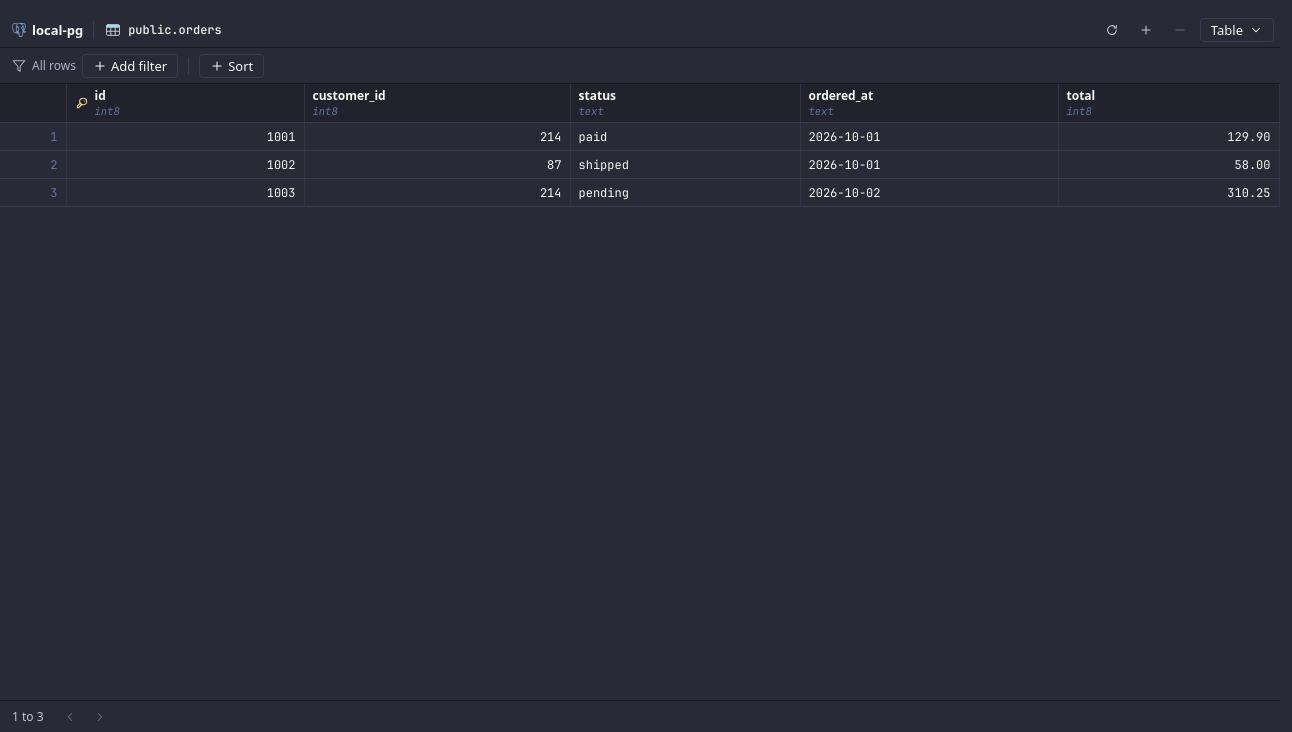
Test: Alt+Shift+Left and Right move the active column, which stays selected
Check: the text "pending" is shown, box [578, 184, 629, 200]
Press the mouse on the cell "87": point(437, 164) [304, 150, 570, 178]
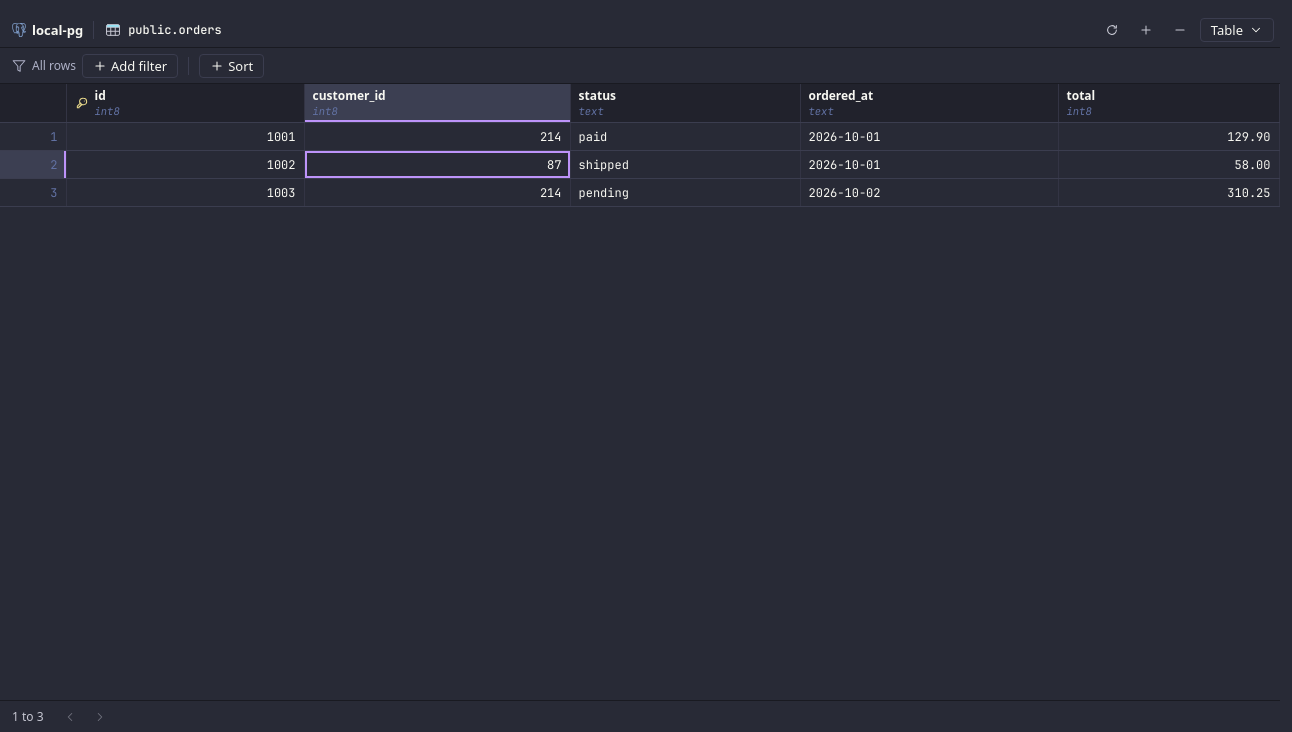
Press ArrowRight in the element with class "grid-scroll", box [0, 84, 1279, 206]
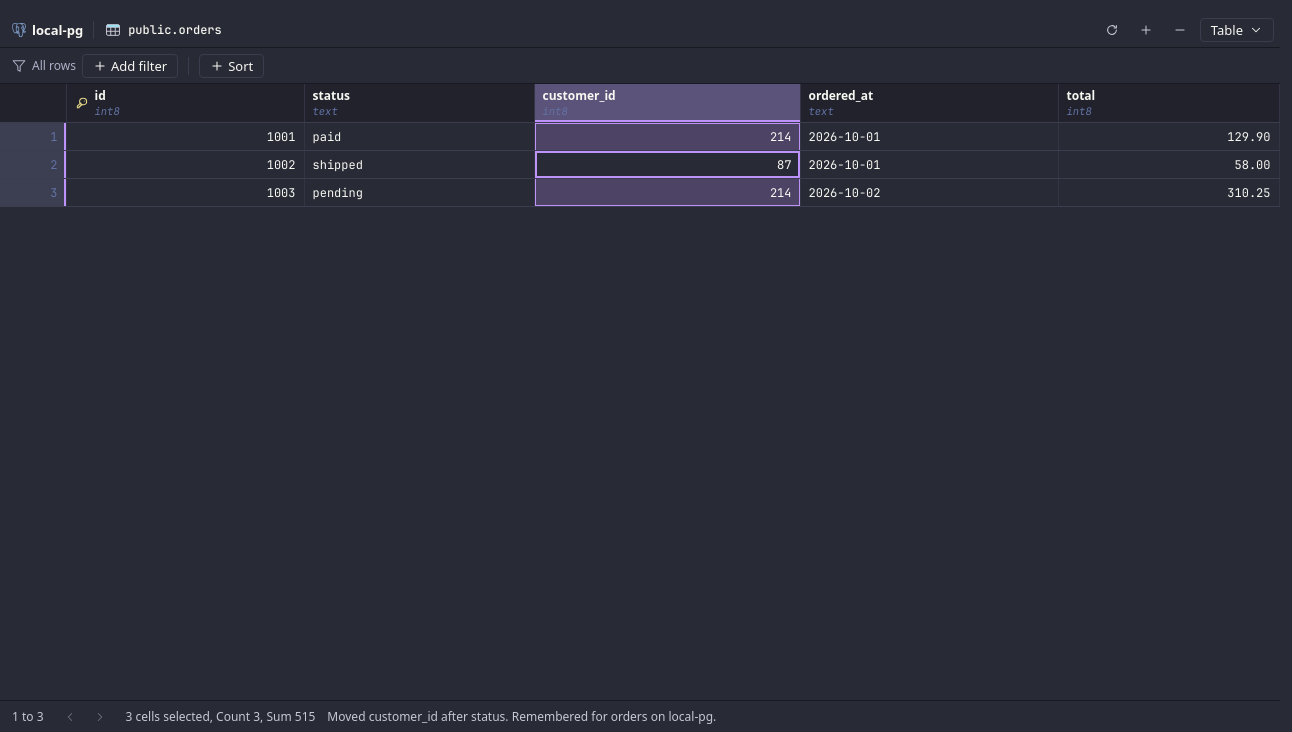
Check: the text with class "table-order-note" reads "Moved customer_id after status. Remembered for orders on local-pg.", box [327, 708, 716, 724]
Press ArrowLeft in the element with class "grid-scroll", box [0, 84, 1279, 206]
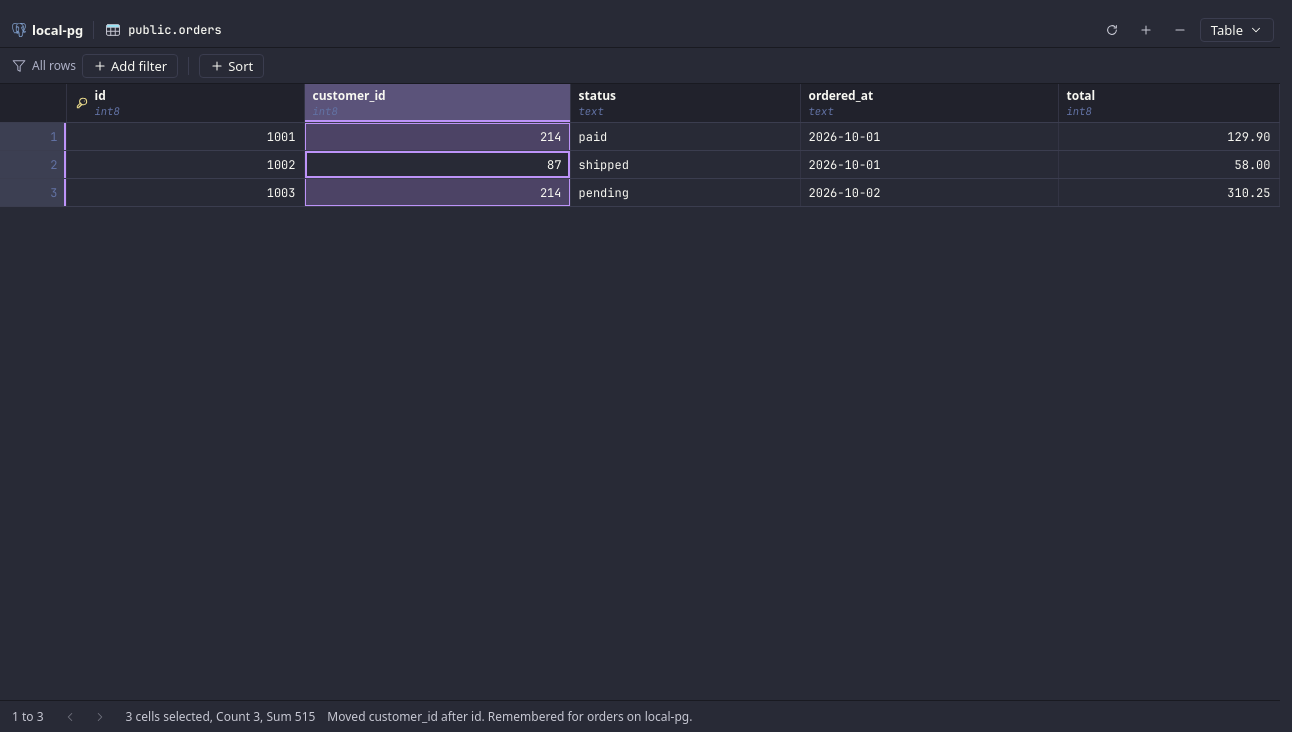
Press ArrowLeft in the element with class "grid-scroll", box [0, 84, 1279, 206]
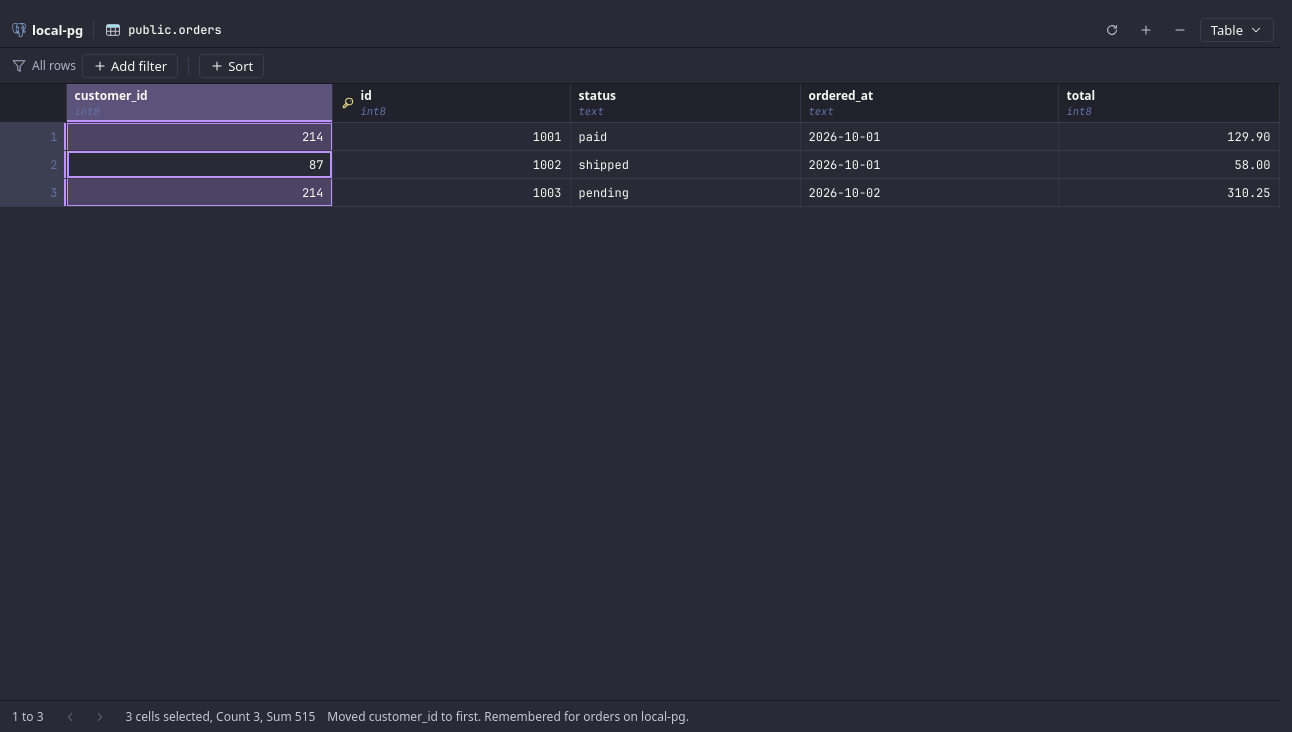
Press ArrowLeft in the element with class "grid-scroll", box [0, 84, 1279, 206]
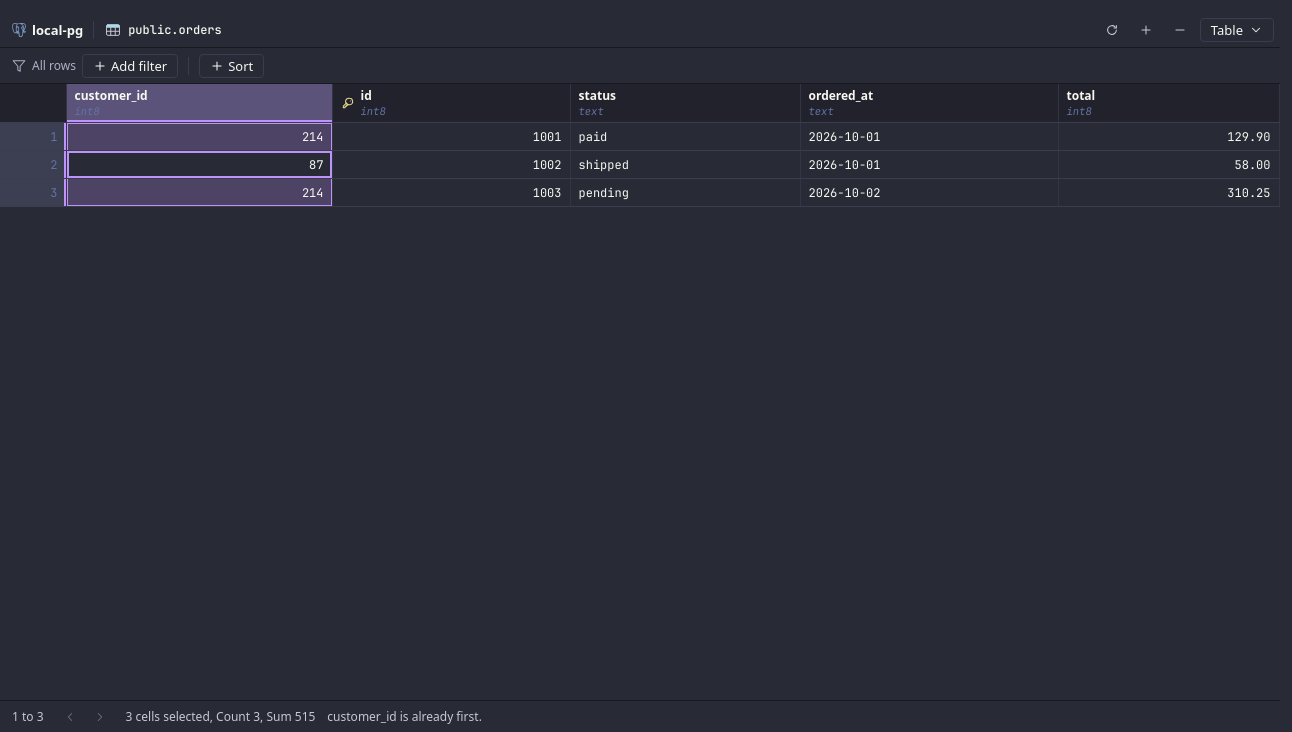
Check: the text with class "table-order-note" reads "customer_id is already first.", box [327, 708, 482, 724]
